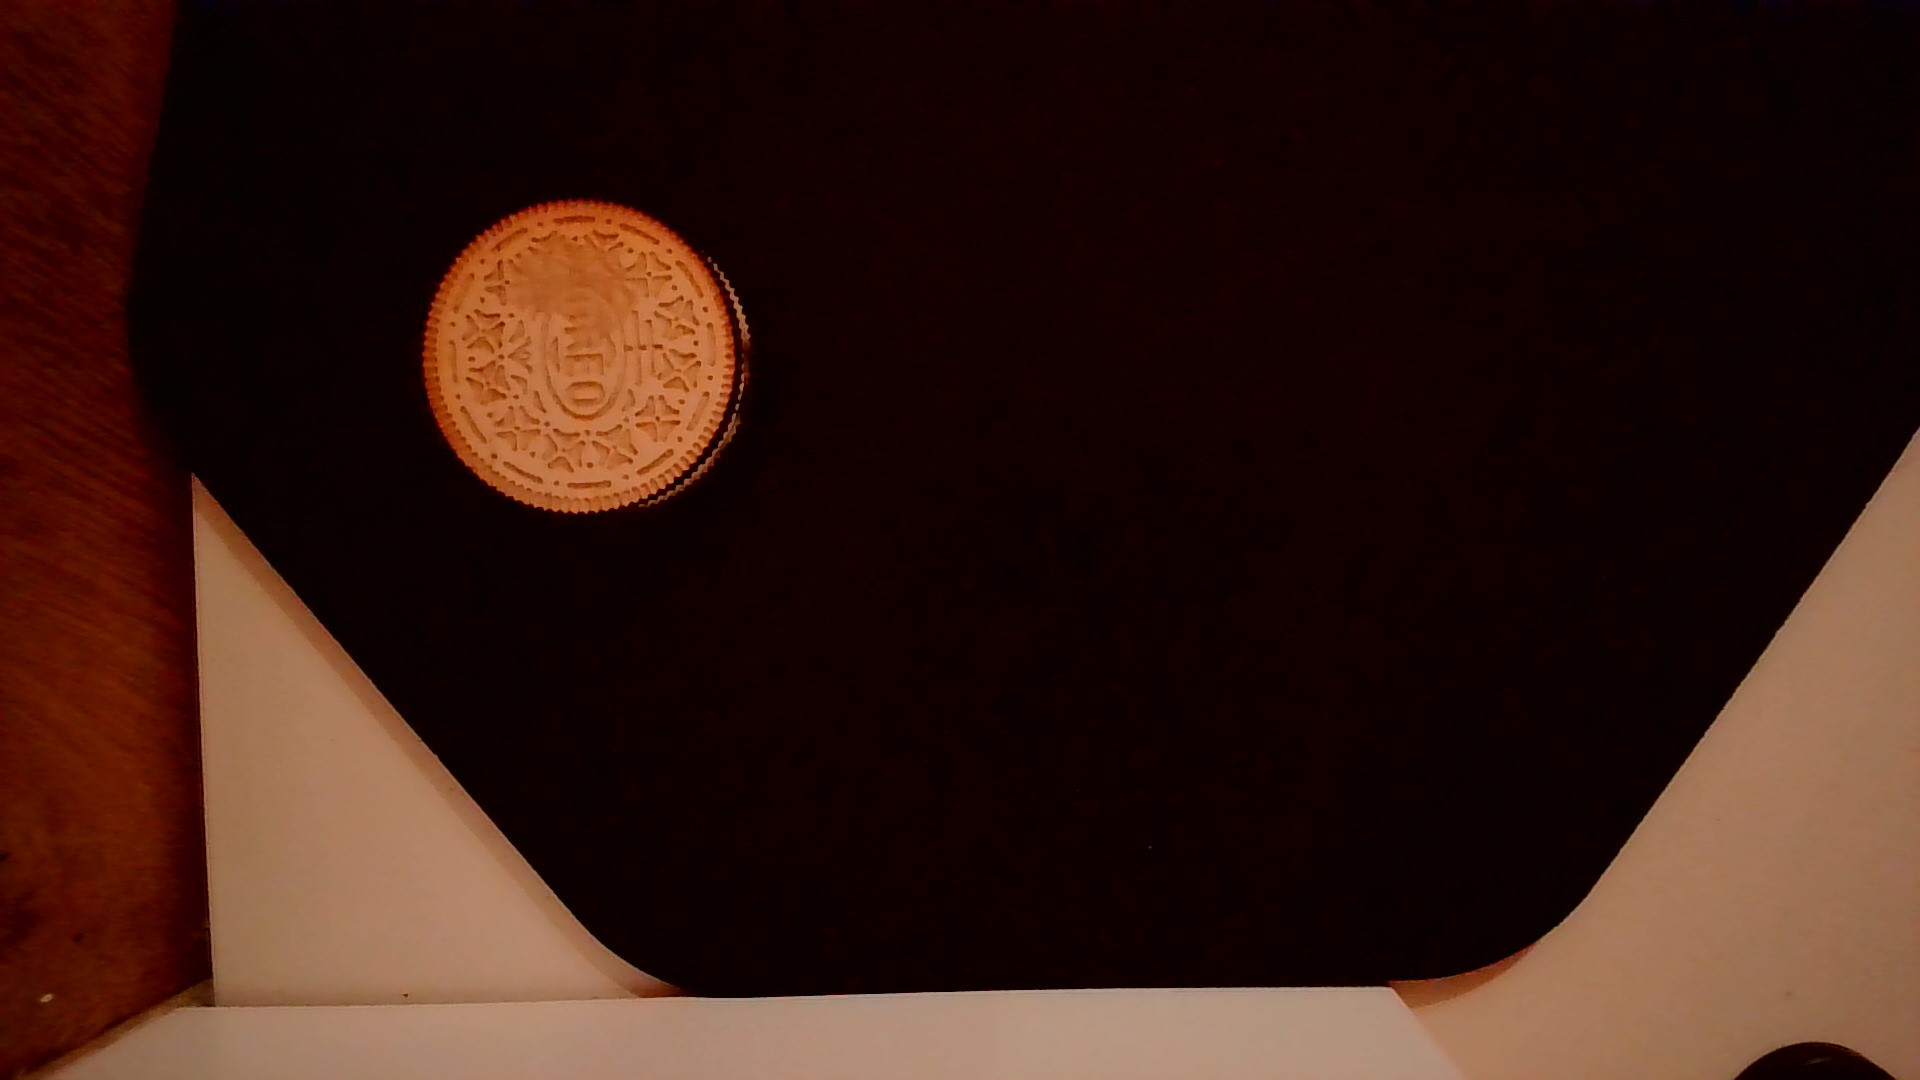Effacé: (514, 256, 645, 336)
Oréo: (409, 193, 761, 522)
